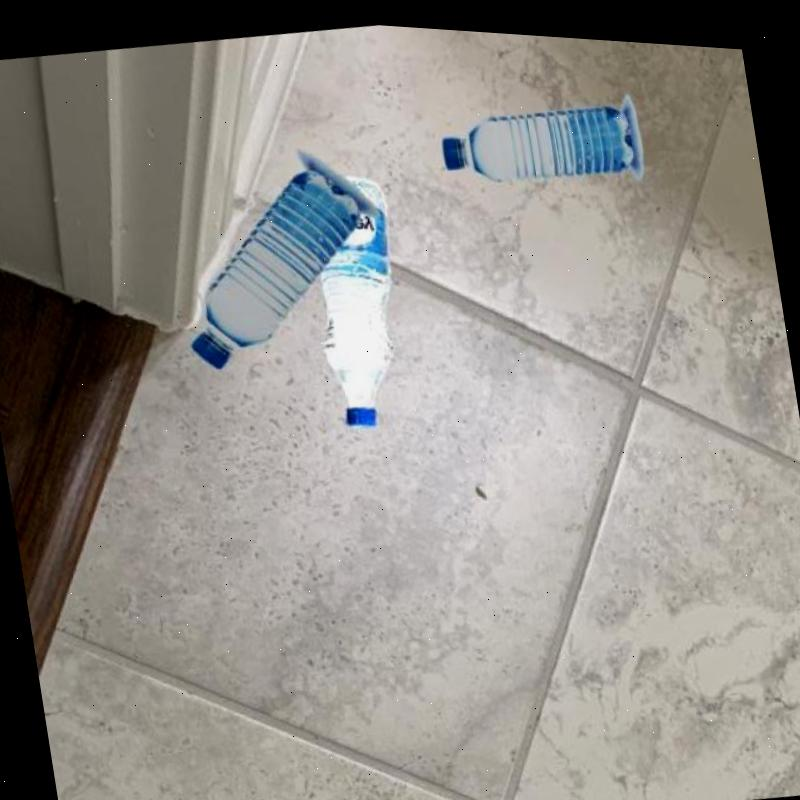botella: (162, 149, 382, 380), (298, 163, 414, 427), (440, 82, 640, 188)
